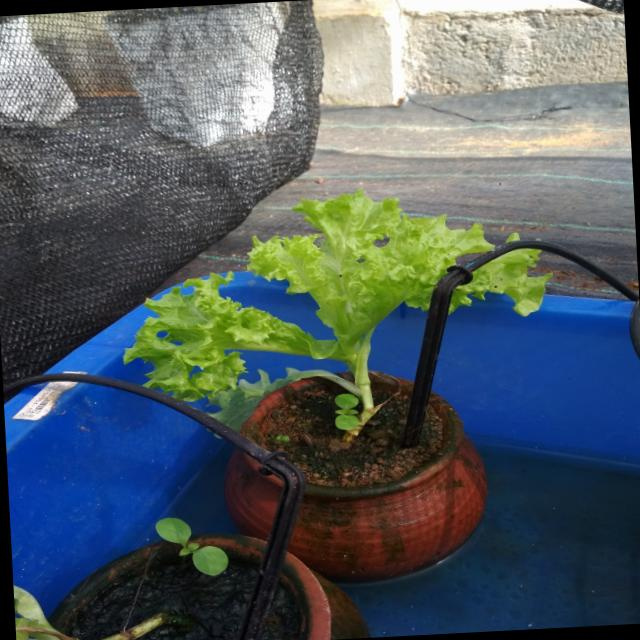Lettuce-Not-Ready-to-Harvest: (138, 193, 553, 438)
